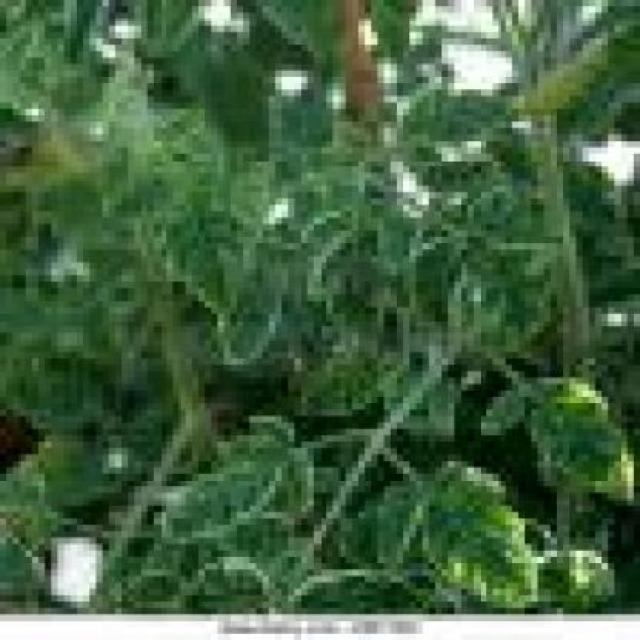Healthy Leaf: (417, 462, 577, 628), (160, 415, 332, 551), (524, 358, 634, 524), (160, 166, 263, 332), (115, 557, 294, 634), (308, 218, 397, 364), (460, 186, 595, 257), (218, 251, 290, 378), (403, 237, 480, 352), (288, 340, 397, 417), (358, 480, 442, 569), (103, 166, 192, 231), (371, 204, 442, 276), (423, 154, 519, 198)
